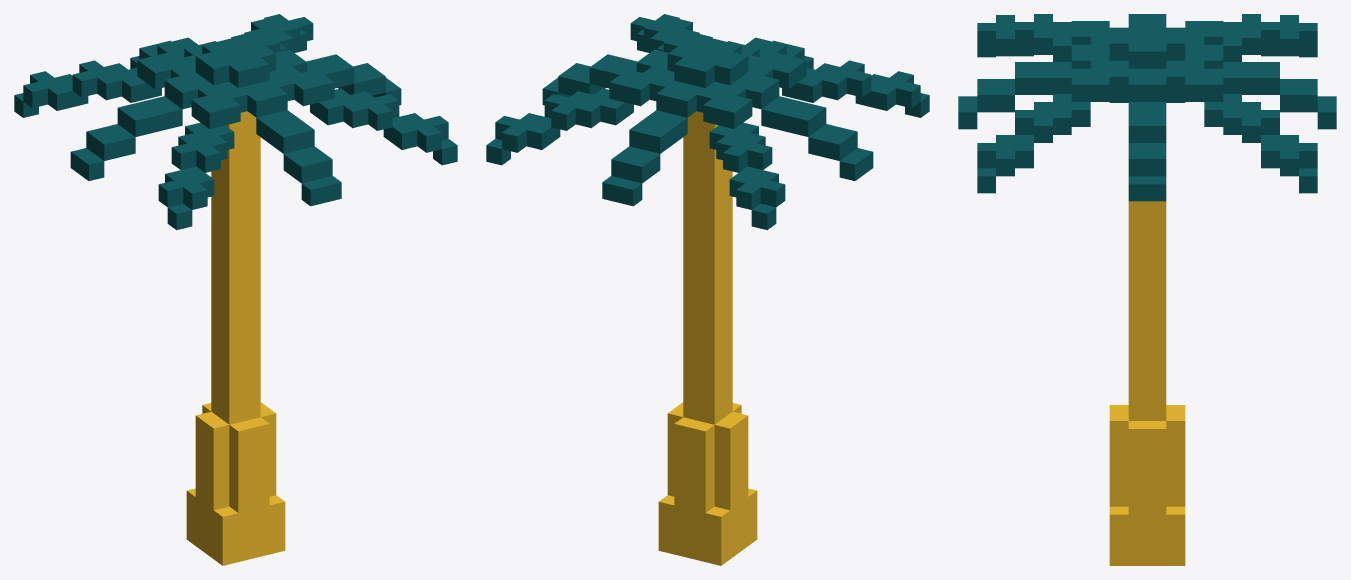
File: SM_Palm.obj
3 views of the same model, side by side, from view 1: azimuth 30°, elevation 25°; view 2: azimuth 150°, elevation 25°; view 3: azimuth 270°, elevation 25° (orthographic). The views are drawn at different scales.
Bounding box in the file's own units: 2 × 3 × 2.
